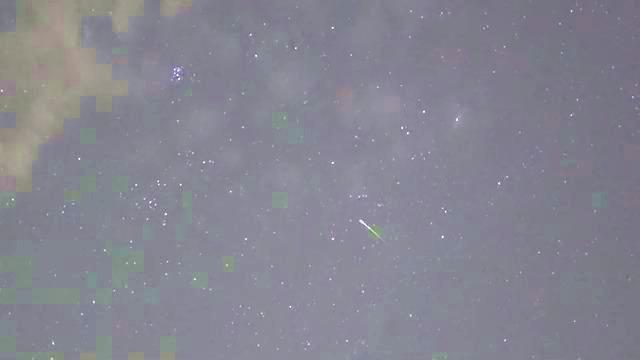meteorite: (333, 216, 401, 244)
